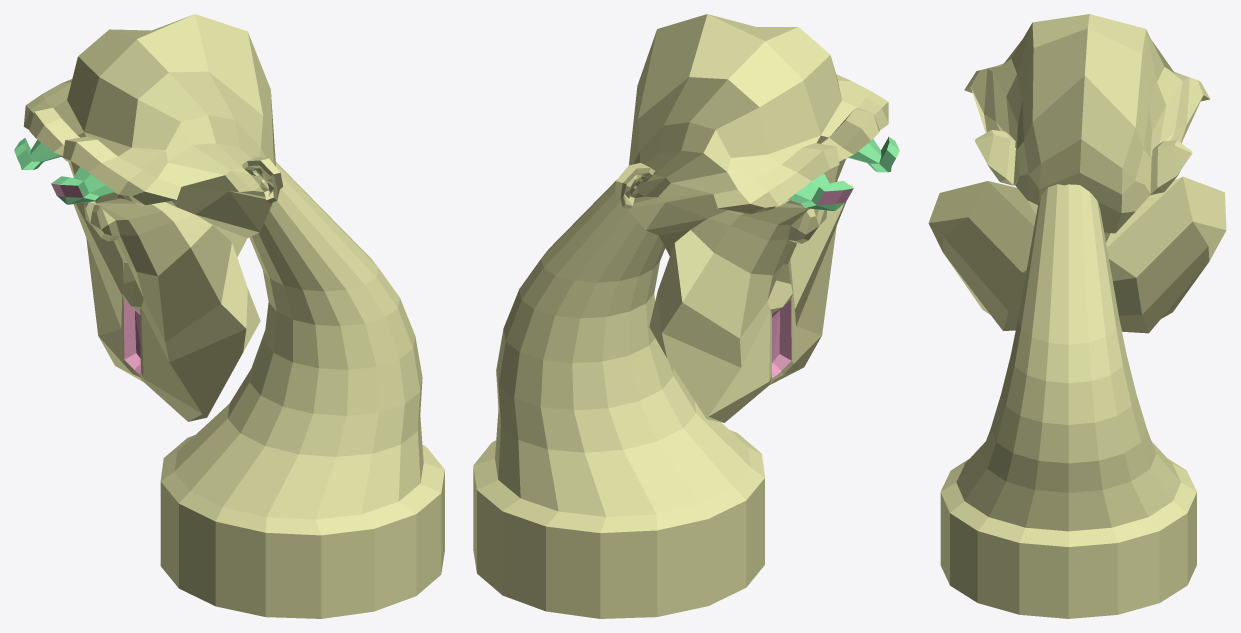
File: boss.gltf
3 views of the same model, side by side, from view 1: azimuth 30°, elevation 25°; view 2: azimuth 150°, elevation 25°; view 3: azimuth 270°, elevation 25° (orthographic). The views are drawn at different scales.
Visible parts, largest first — view 1: Suzanne, Cylinder, Cylinder.001, Suzanne.001, Suzanne.002; view 2: Suzanne, Cylinder, Cylinder.001, Suzanne.002, Suzanne.001; view 3: Suzanne, Cylinder, Cylinder.001.
Part boxes in pixels (box(x1,y1,x2,y2)): Suzanne: box(23, 14, 283, 421); Cylinder: box(174, 162, 423, 519); Cylinder.001: box(160, 435, 444, 618); Suzanne.001: box(51, 167, 114, 204); Suzanne.002: box(14, 138, 62, 169); Suzanne: box(615, 14, 888, 422); Cylinder: box(495, 180, 750, 516); Cylinder.001: box(473, 430, 764, 618); Suzanne.002: box(788, 173, 853, 210); Suzanne.001: box(848, 137, 899, 172); Suzanne: box(928, 14, 1226, 333); Cylinder: box(956, 184, 1180, 531); Cylinder.001: box(940, 458, 1196, 618).
Bounding box in the file's own units: 3.12 × 4.34 × 2.36.
